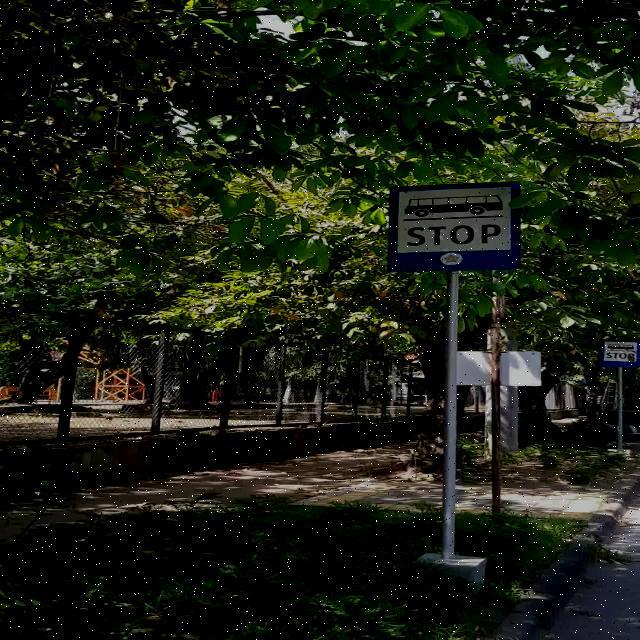Pemberhentian Bus: (386, 180, 521, 272)
